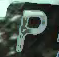Parking: (14, 4, 49, 56)
